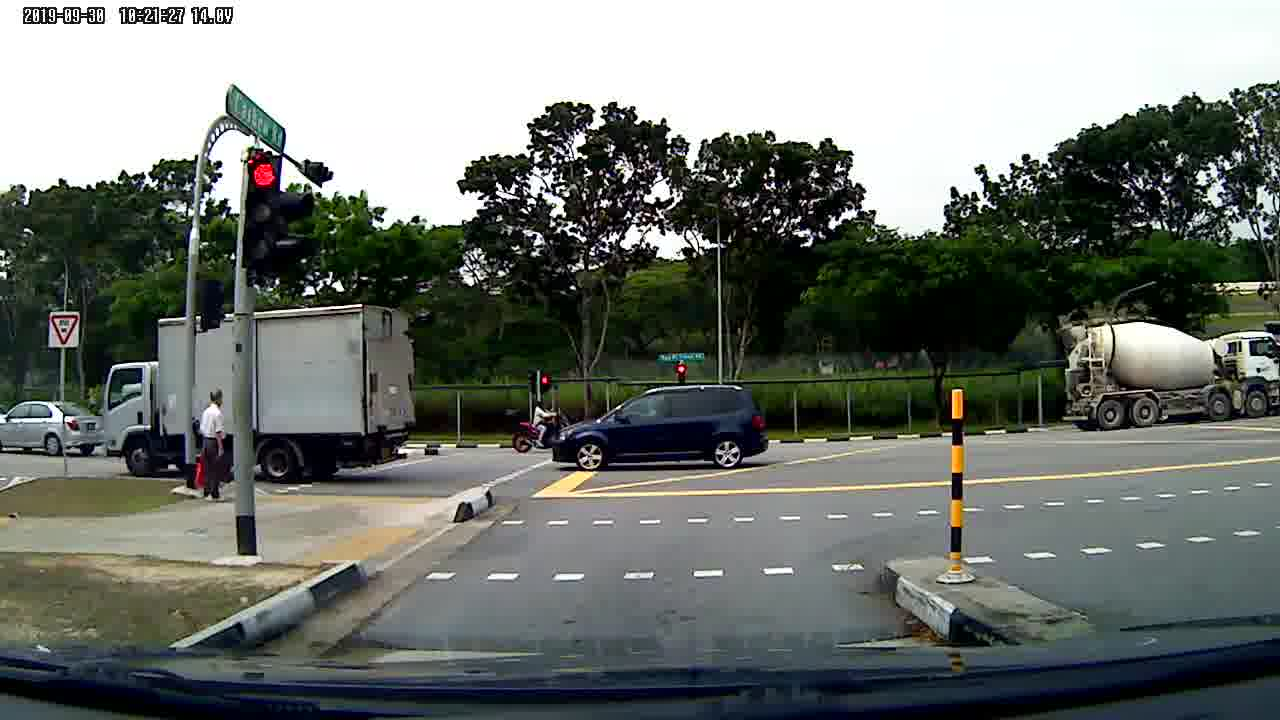car: (544, 382, 772, 485), (1, 395, 103, 457)
